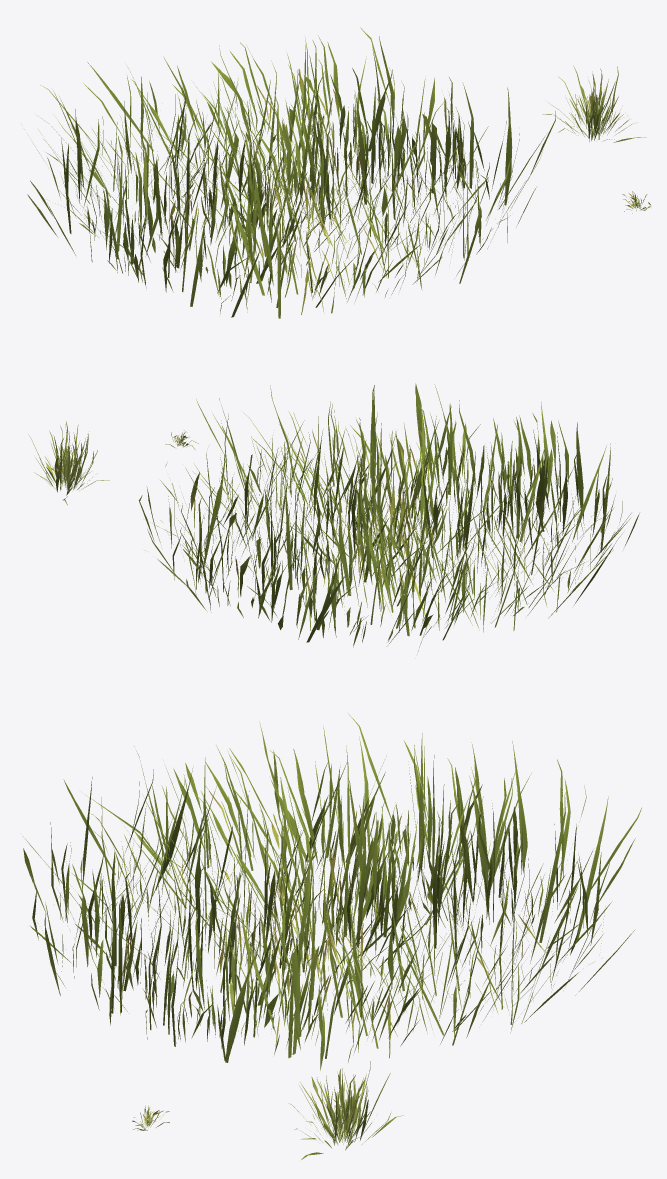
The model's file is grass.glb.
The picture shows the model from 3 angles, top to bottom: view 1: azimuth 30°, elevation 25°; view 2: azimuth 150°, elevation 25°; view 3: azimuth 270°, elevation 25°; orthographic projection. The views are drawn at different scales.
Bounding box in the file's own units: 2.59 × 0.5403 × 1.93.
4 materials, 4 textured.
